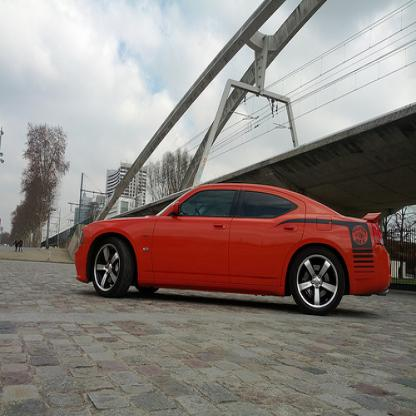Vehicle: (74, 182, 394, 318)
